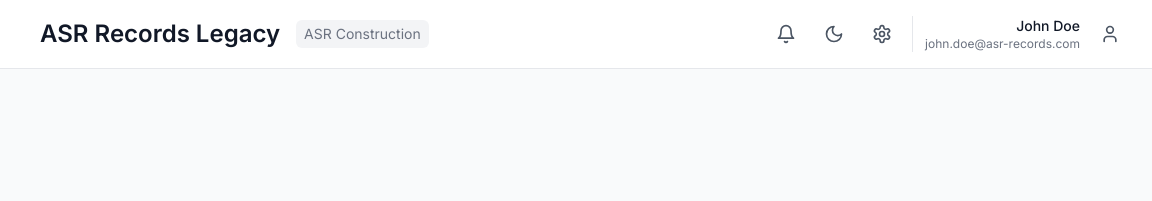
Test: Header › shows "No notifications" when dropdown opened with empty list
What coordinates should you click on to do the following:
click the button named "notifications"
I would click on:
 (786, 34)
Its box is [768,16,804,52].
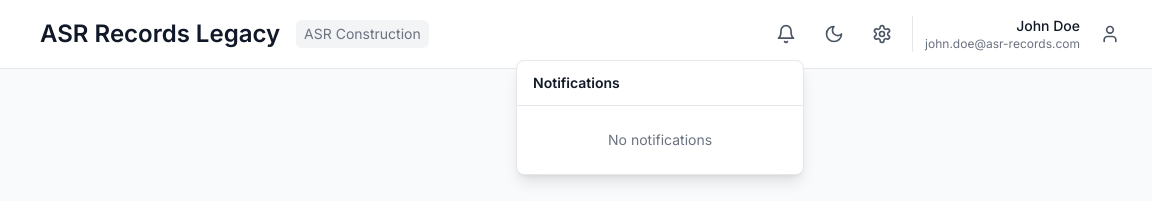
Check: the text "No notifications" is shown, box [608,131,712,148]
